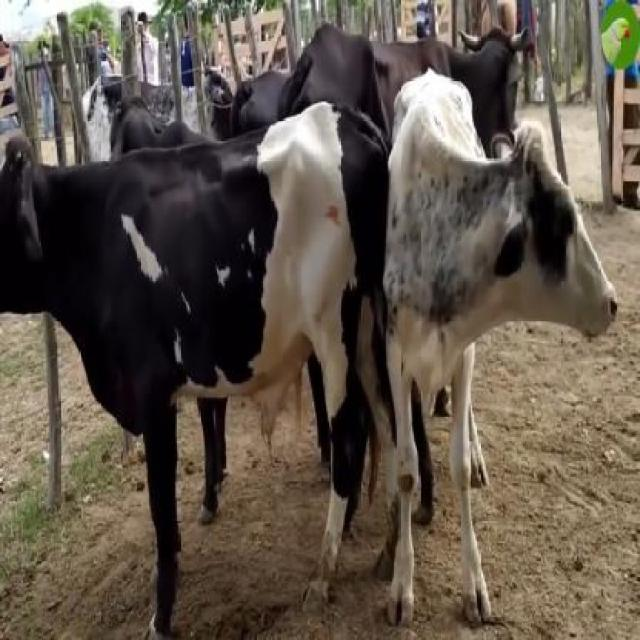Cow: (0, 102, 388, 632), (385, 70, 617, 624)
